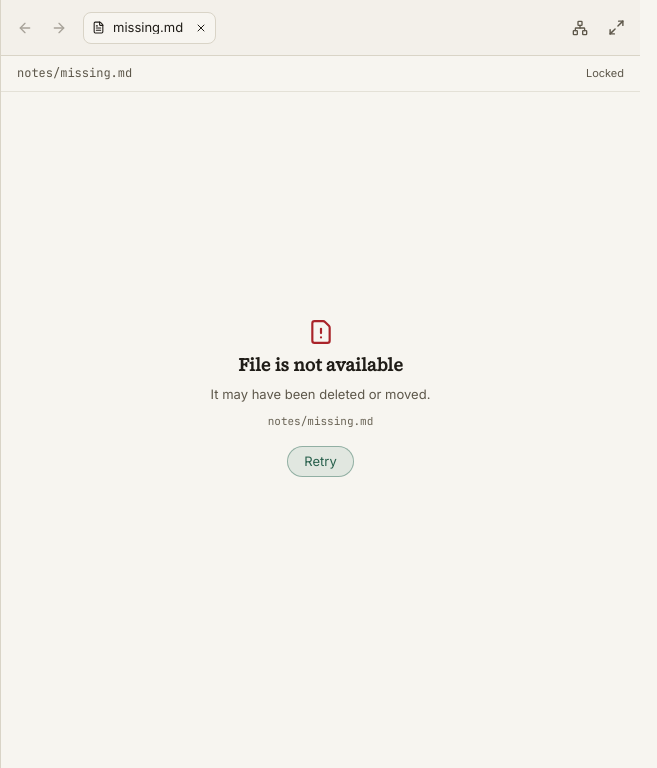
WorkspacePane › keeps an unavailable tab open with a retry affordance
Expected: the text "File is not available" is shown, [238, 353, 403, 376]
Expected: the tab with aria-label "notes/missing.md" is shown, [92, 21, 183, 34]
Step 1. Click the button "Retry" → coordinates (320, 462), box [287, 446, 354, 477]
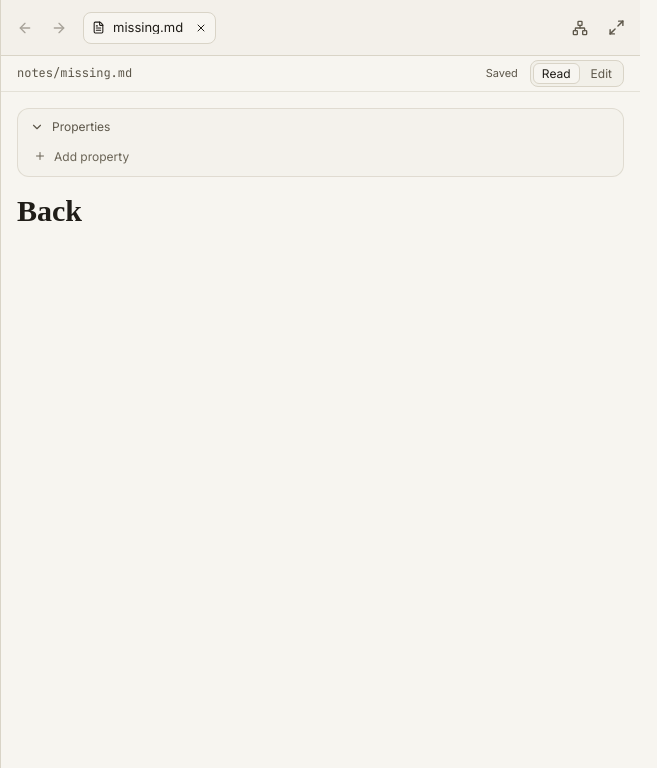
Expected: the heading "Back" is shown, [17, 194, 82, 227]
